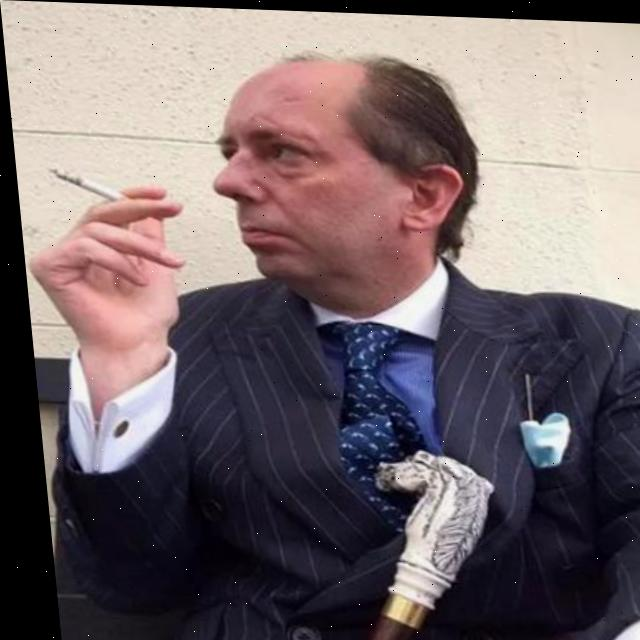cigarette: (42, 164, 118, 202)
